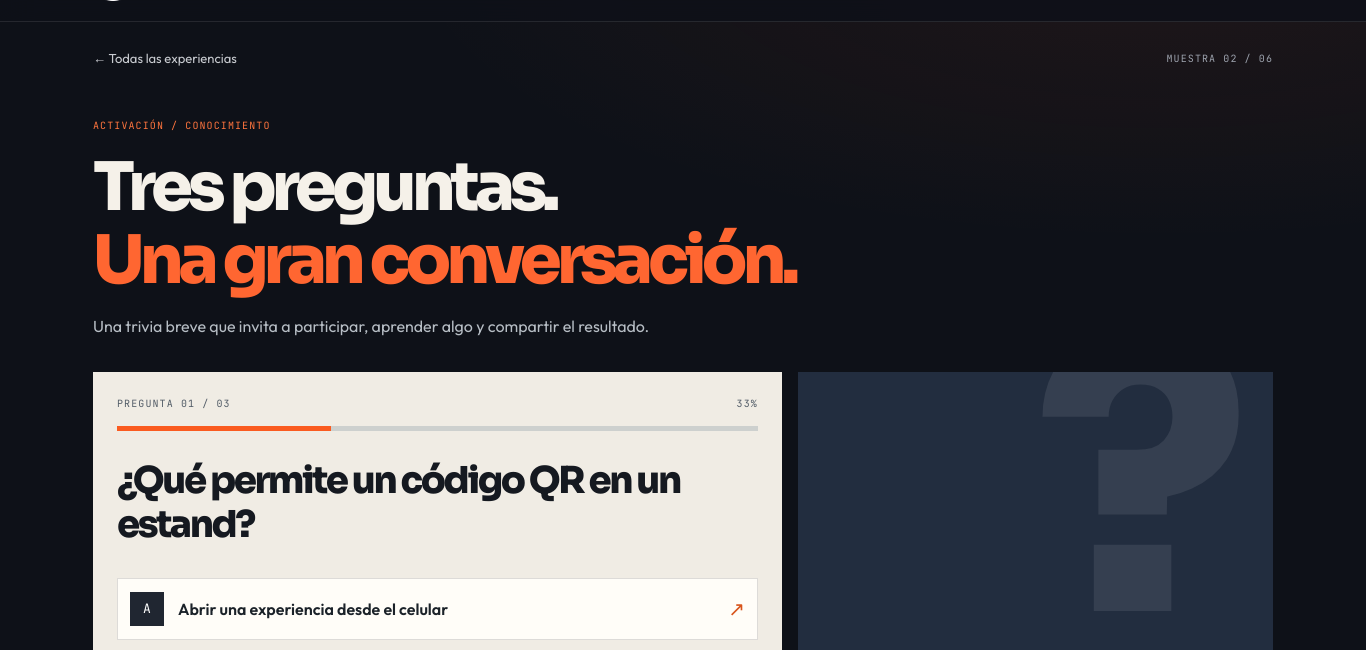
Test: demo de experiencias › resuelve tres preguntas y muestra la puntuación
Step 1. Click the button "A Abrir una experiencia desde el celular ↗" → (437, 608), box [117, 578, 758, 640]
(page scrolled)
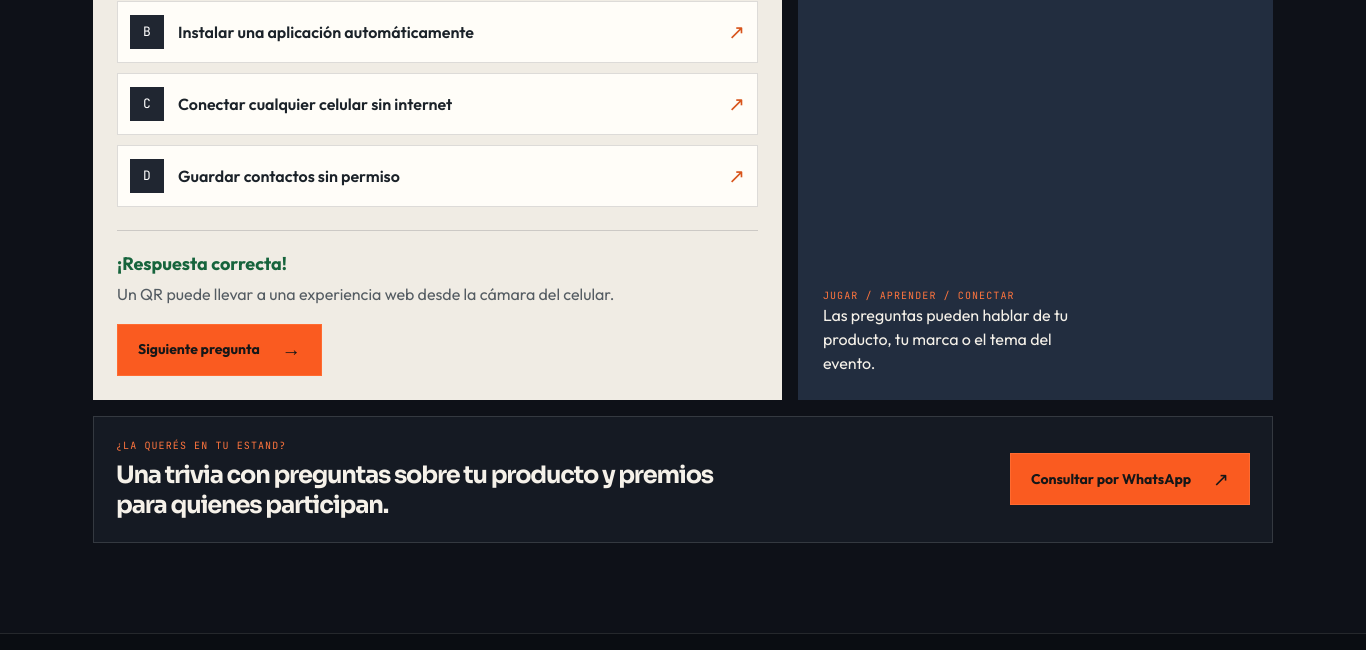
Now the text "¡Respuesta correcta!" is shown, box [117, 252, 287, 274]
Step 2. Click the button "Siguiente pregunta →" → (219, 350), box [117, 324, 322, 376]
(page scrolled)
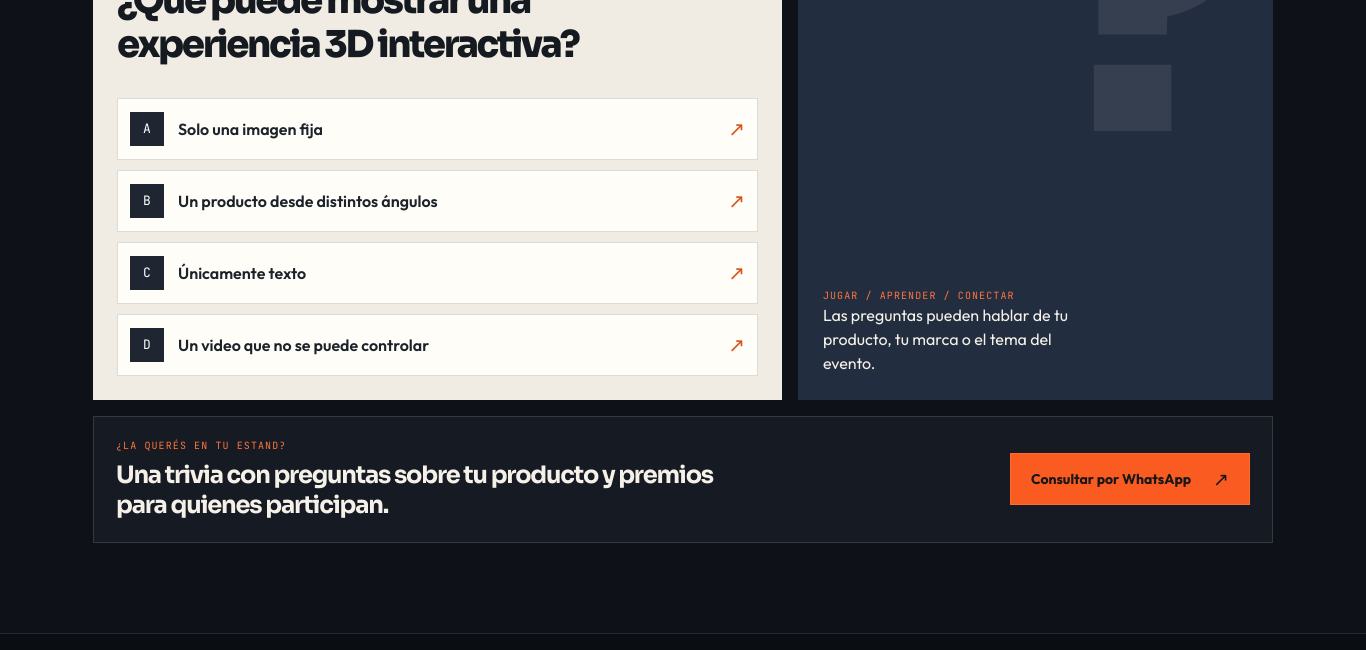
Step 3. Click the button "B Un producto desde distintos ángulos ↗" → (437, 200), box [117, 170, 758, 232]
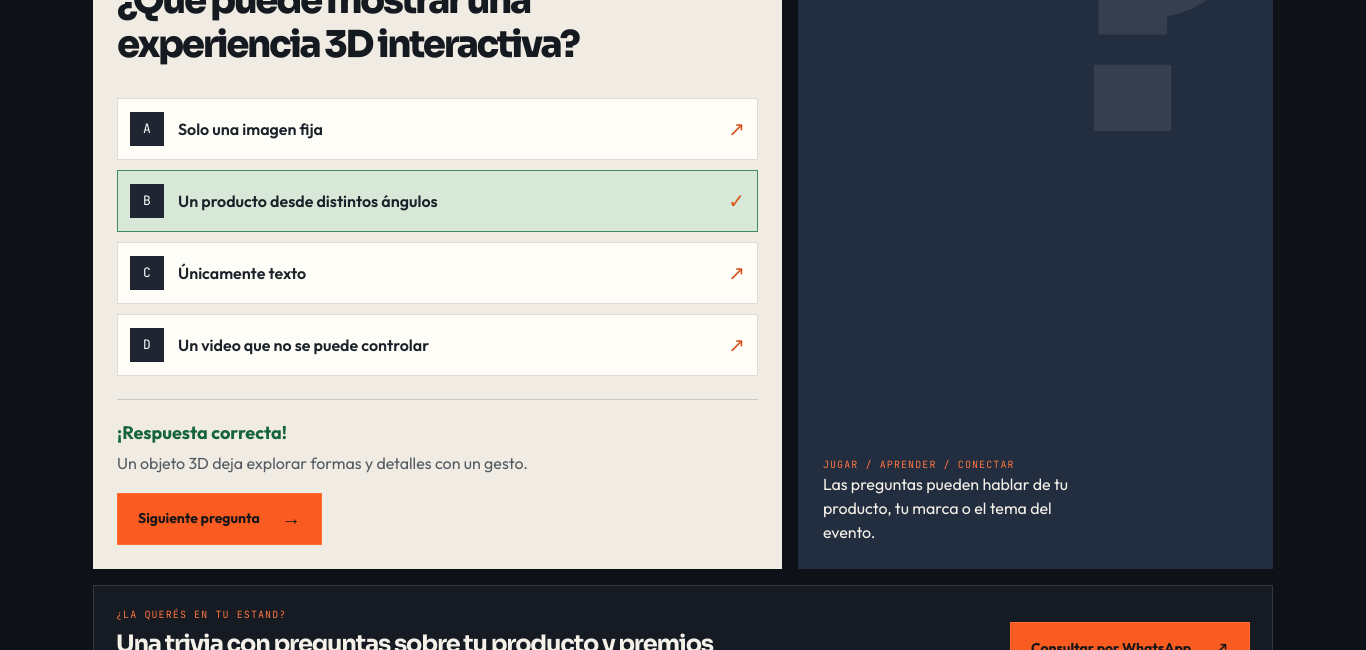
Step 4. Click the button "Siguiente pregunta →" → (219, 518), box [117, 492, 322, 544]
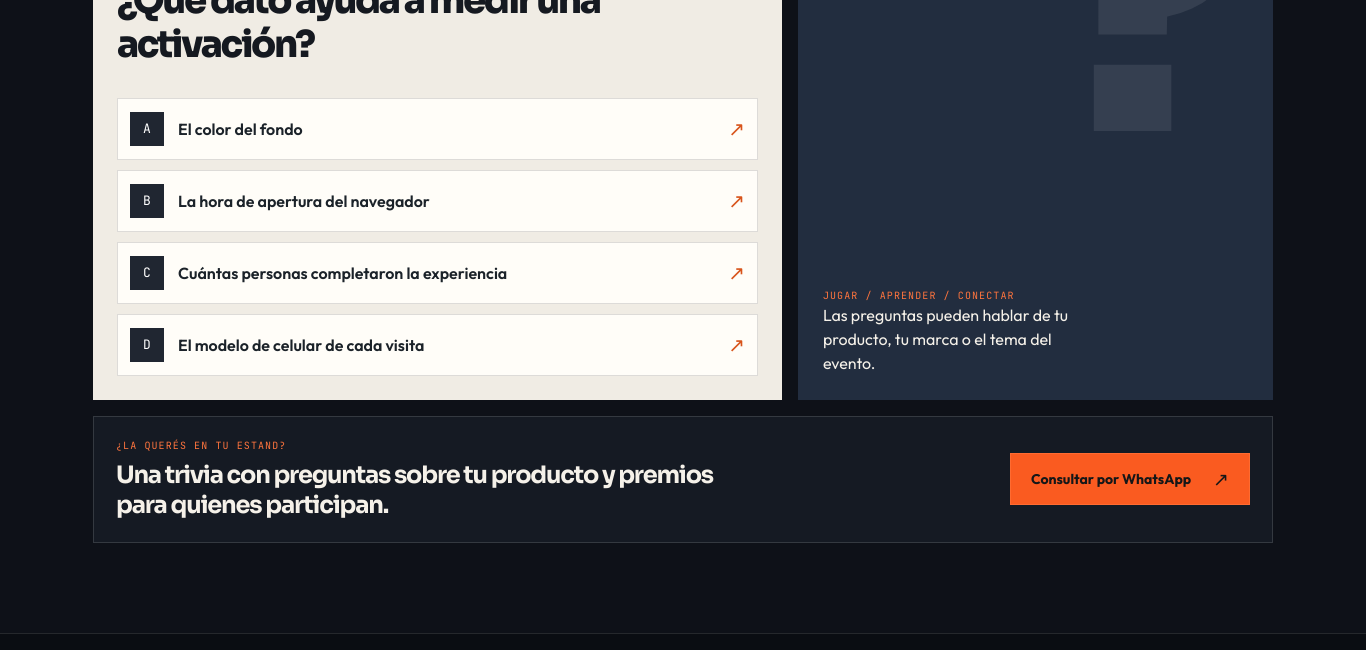
Step 5. Click the button "C Cuántas personas completaron la experiencia ↗" → (437, 272), box [117, 242, 758, 304]
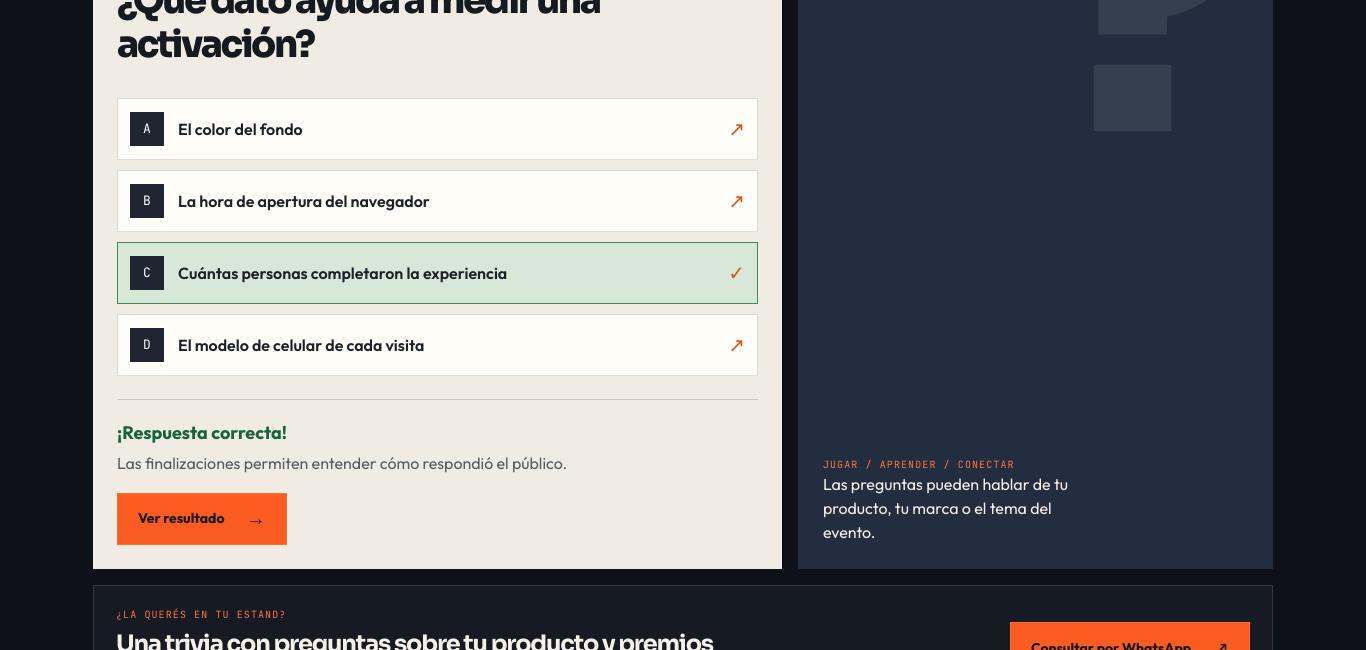
Step 6. Click the button "Ver resultado →" → (202, 518), box [117, 492, 286, 544]
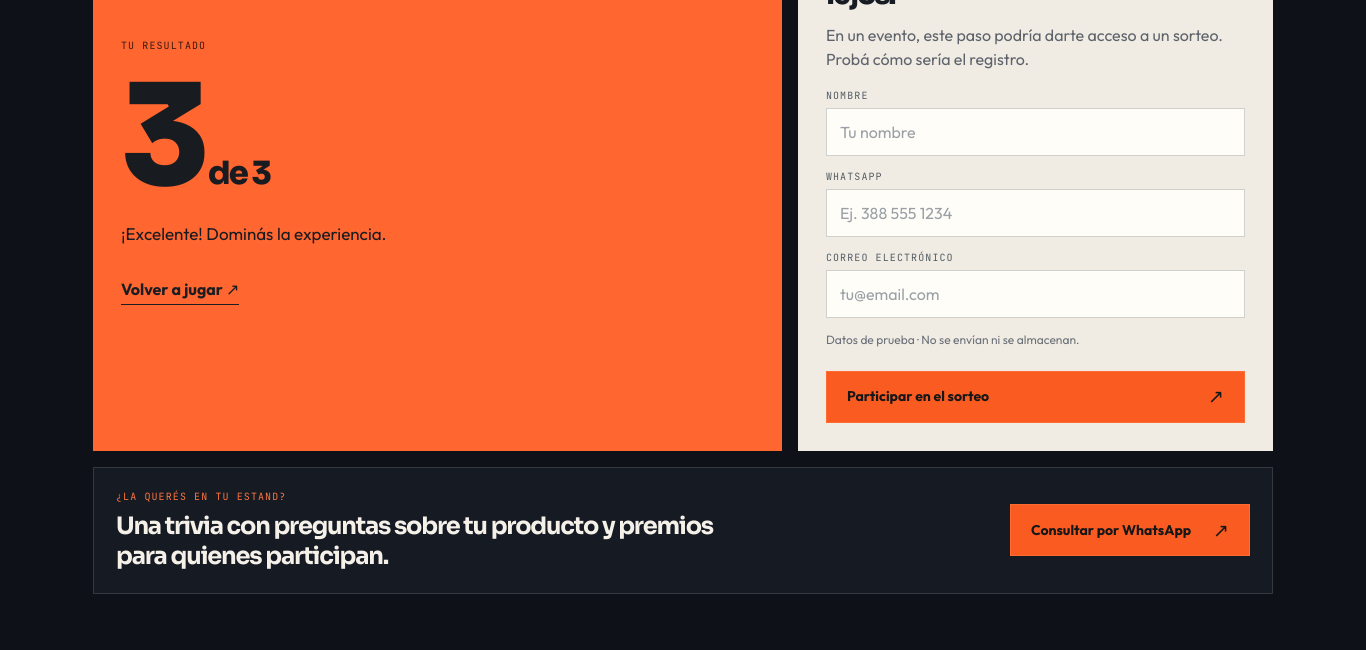
Now the element named "Puntuación: 3 de 3" is shown, box [121, 48, 270, 225]
Now the button "Participar en el sorteo ↗" is shown, box [826, 371, 1245, 423]
